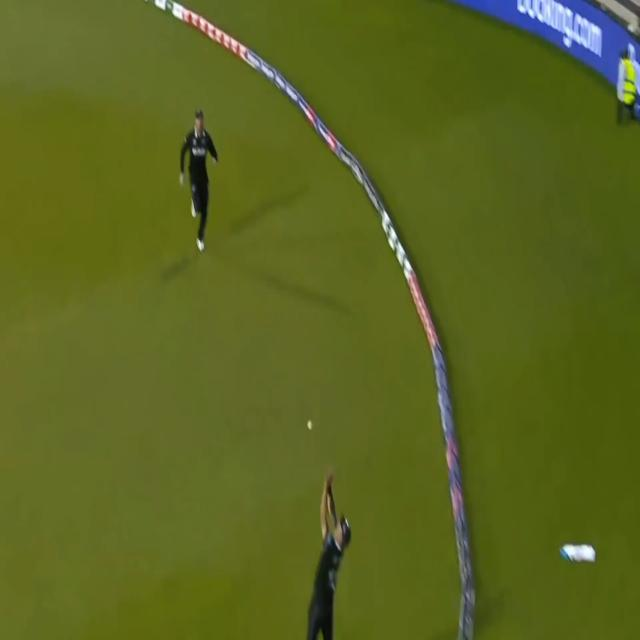ball: (301, 417, 318, 437)
